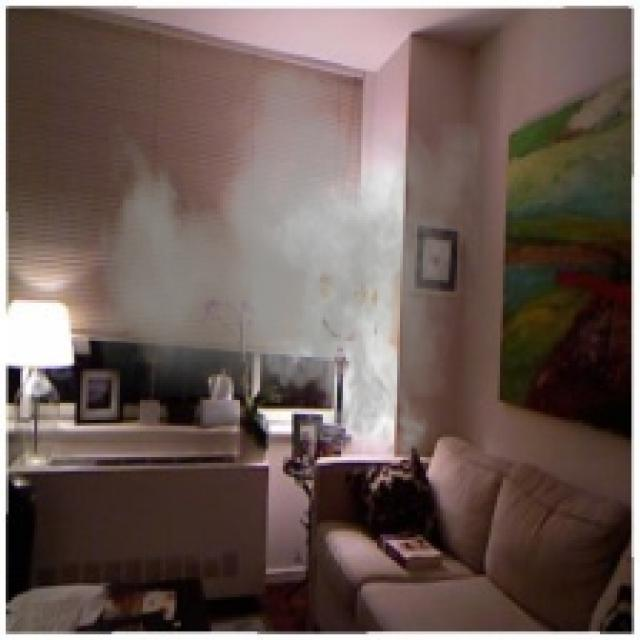smoke: (94, 49, 480, 472)
